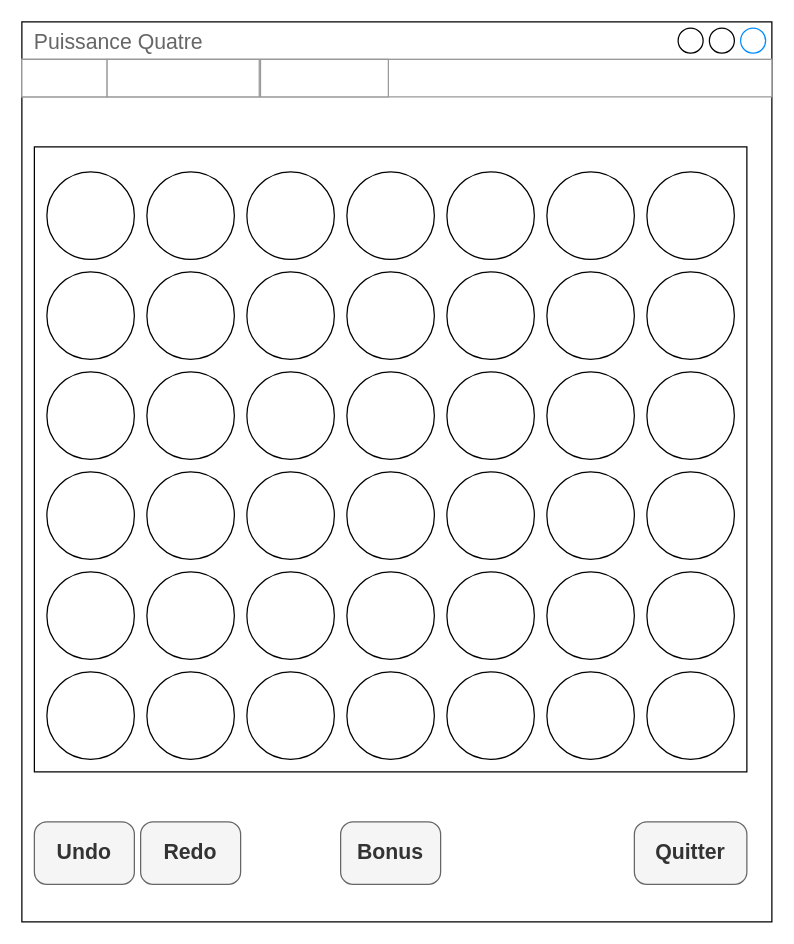
Image size: 794x944. Some labels were removed from this diagram. The shapes that lost their labels are listed below. From the top down, each one's centre as x and y in pixels, then its label:
pixel 64 77: Partie
pixel 182 77: Paramètres
pixel 323 77: A Propos
